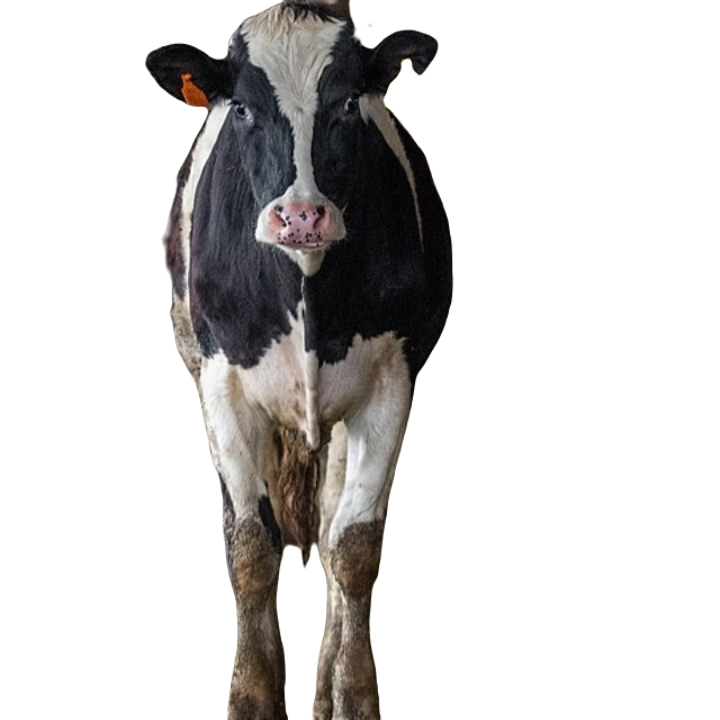Cow: (144, 2, 457, 719)
